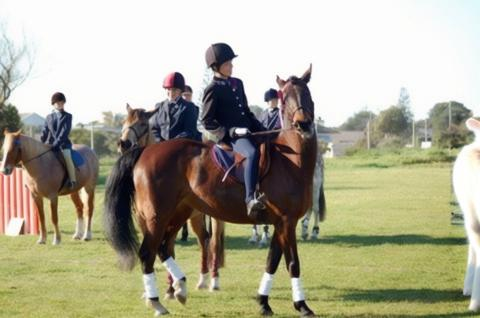cat: (451, 116, 480, 318)
horse: (104, 65, 319, 318), (118, 104, 222, 293), (3, 132, 101, 243)
person: (204, 45, 266, 218), (42, 94, 78, 191), (151, 72, 199, 142), (263, 90, 283, 131)
